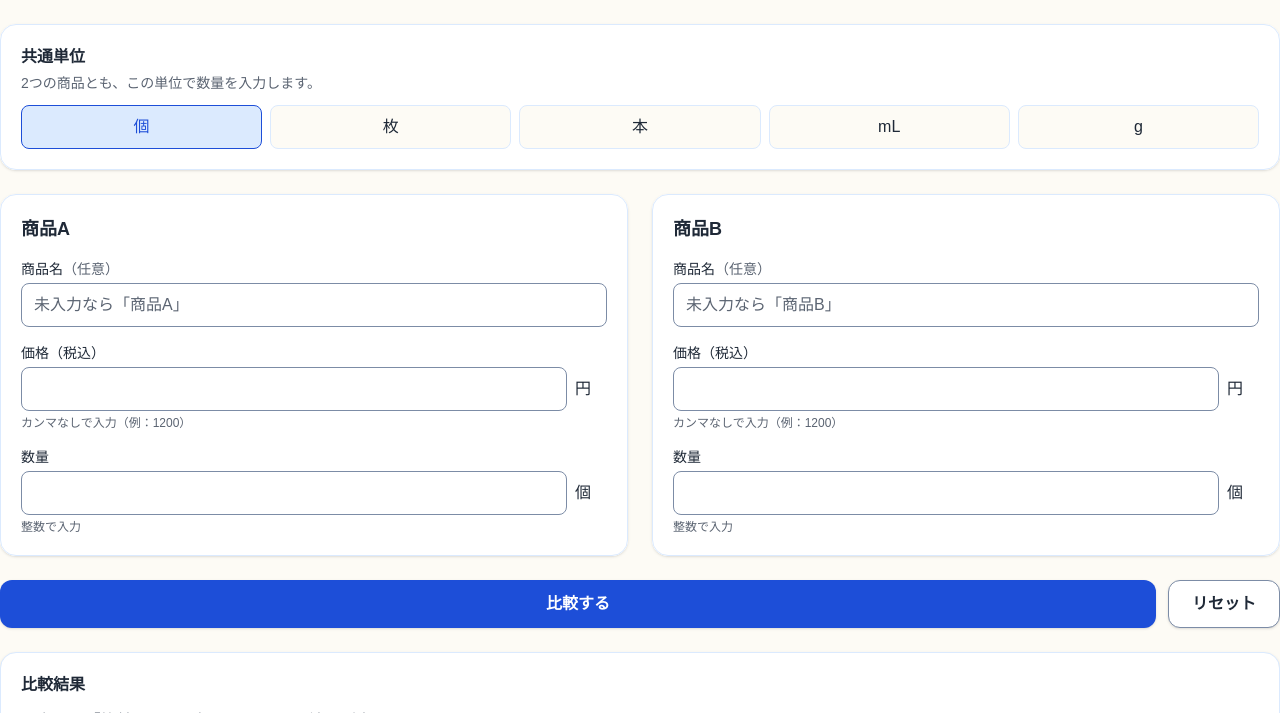
Scenario: UnitPriceComparer：比較と結果表示 › 1,000円／50個と2,000円／100個 → 同じ単価です
In the field labelled "価格（税込）" below "商品A": (294, 389) [21, 367, 567, 411], type "1000"
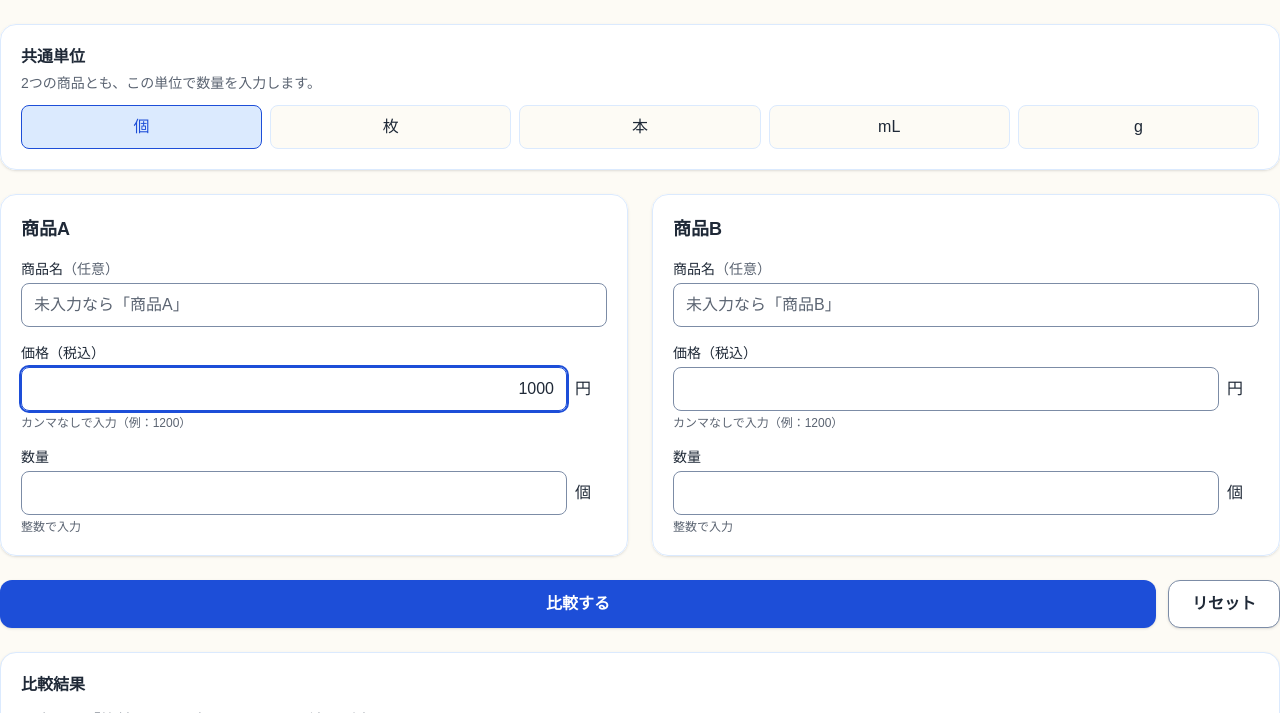
In the field labelled "数量" below "商品A": (294, 493) [21, 471, 567, 515], type "50"
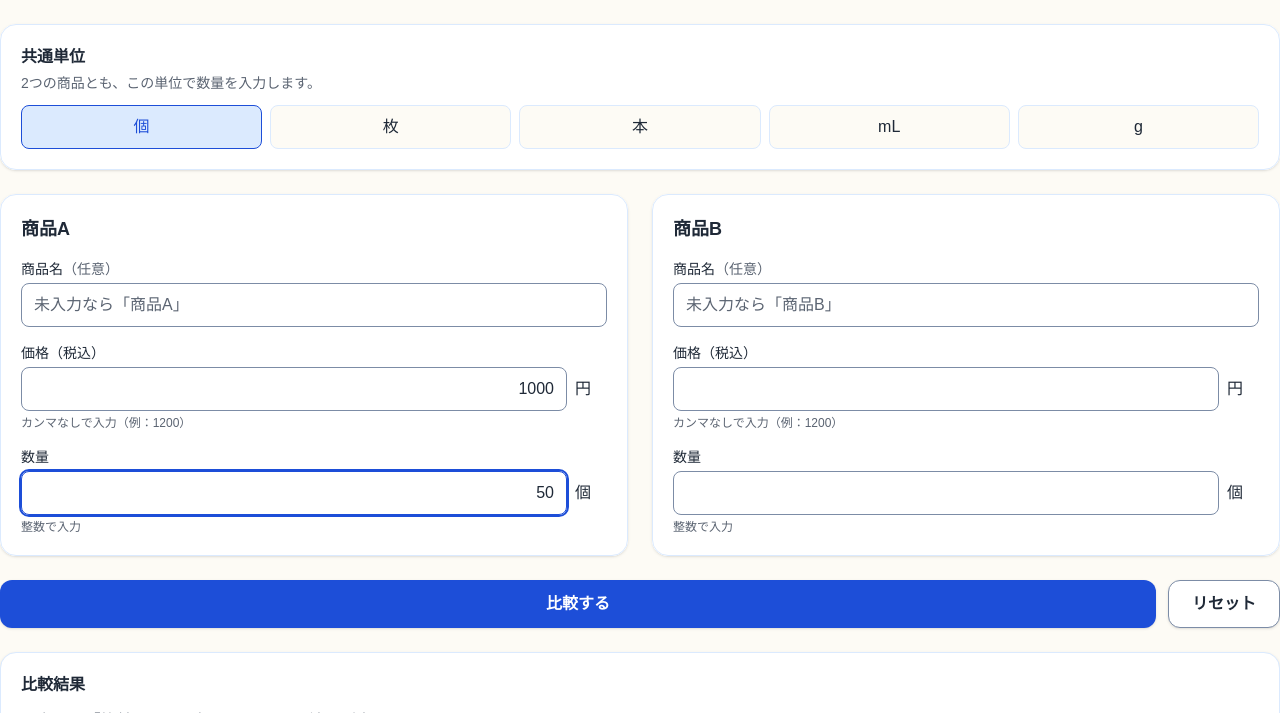
In the field labelled "価格（税込）" below "商品B": (946, 389) [673, 367, 1219, 411], type "2000"
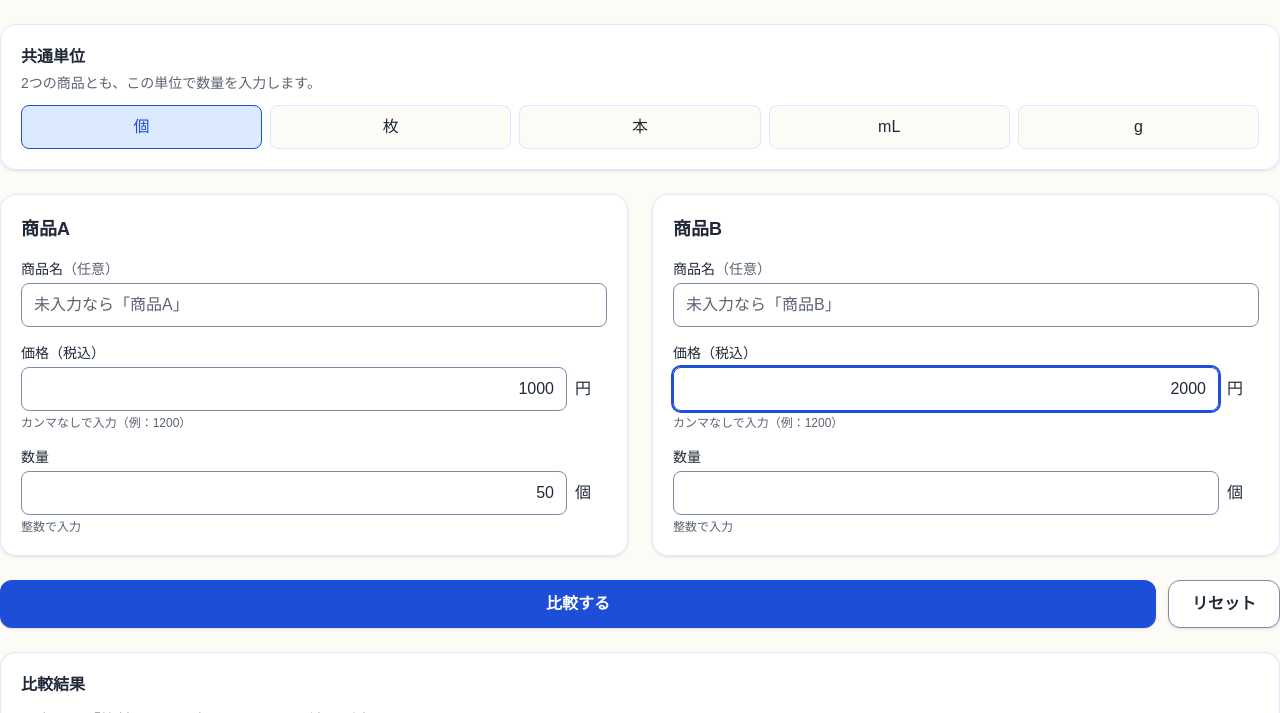
In the field labelled "数量" below "商品B": (946, 493) [673, 471, 1219, 515], type "100"
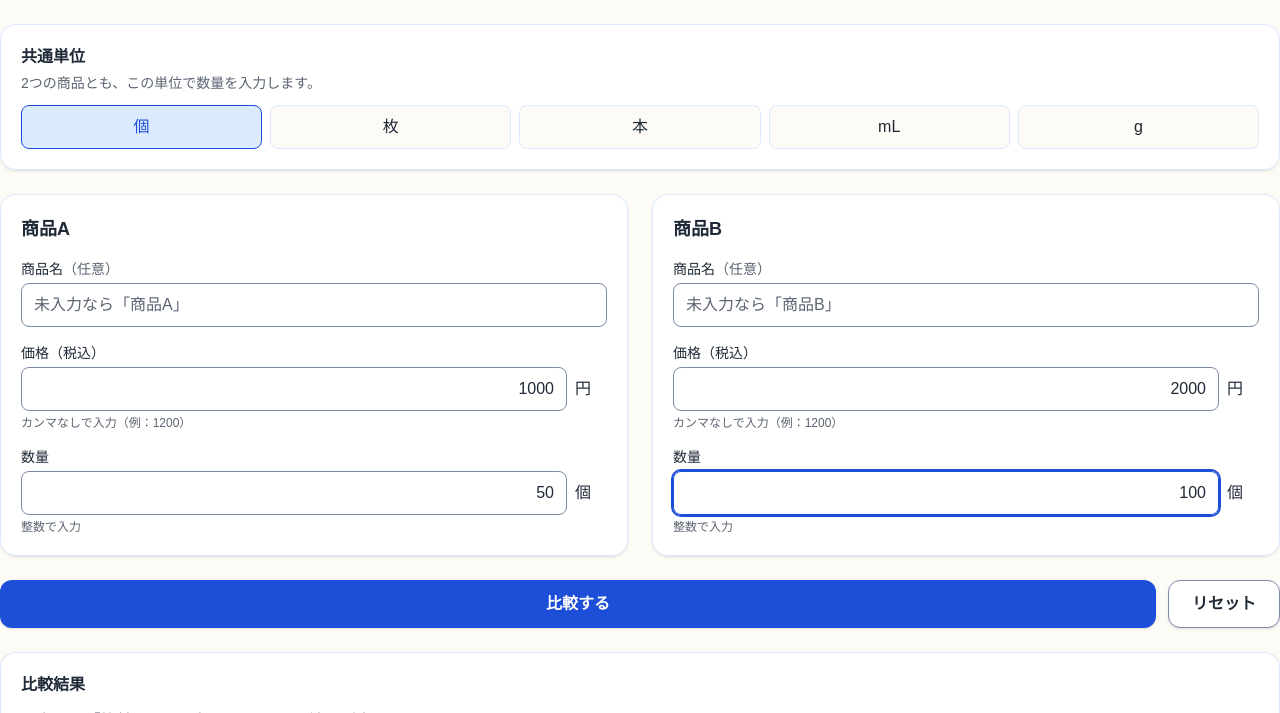
Click the button "比較する": (578, 604) [0, 580, 1156, 628]
(page scrolled)
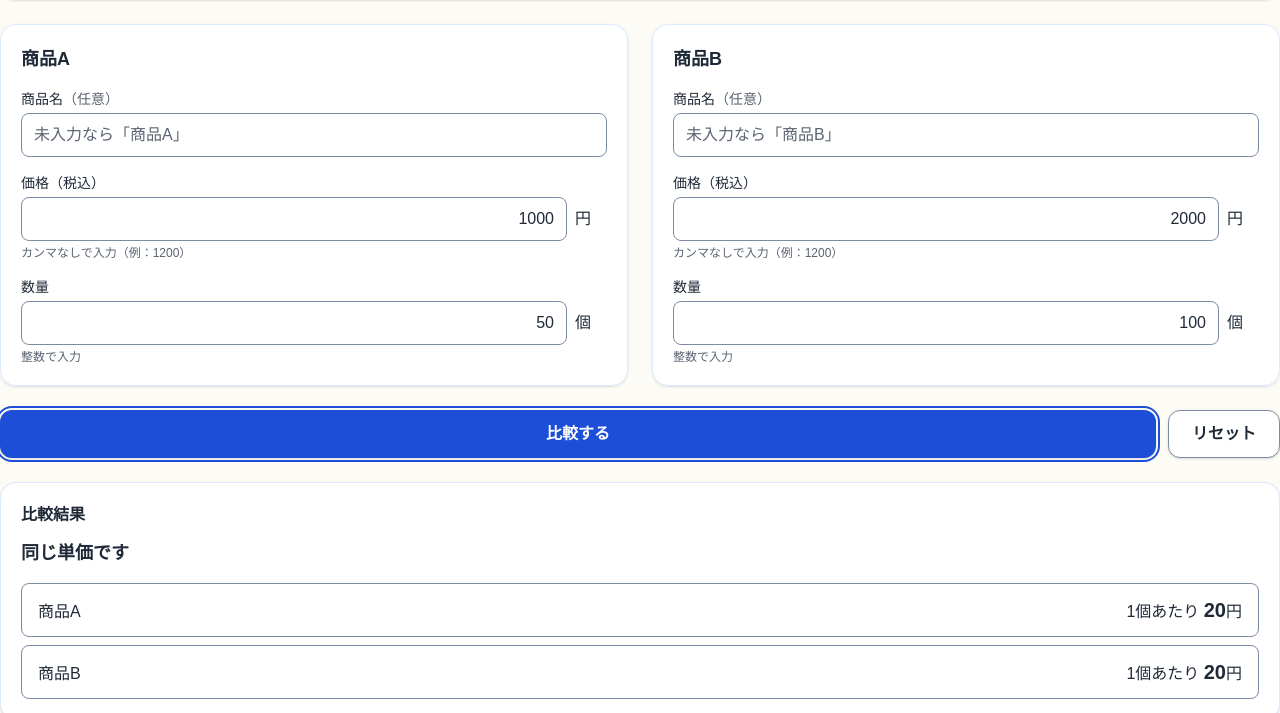
Expected: the text "同じ単価です" is shown, [21, 543, 129, 563]
